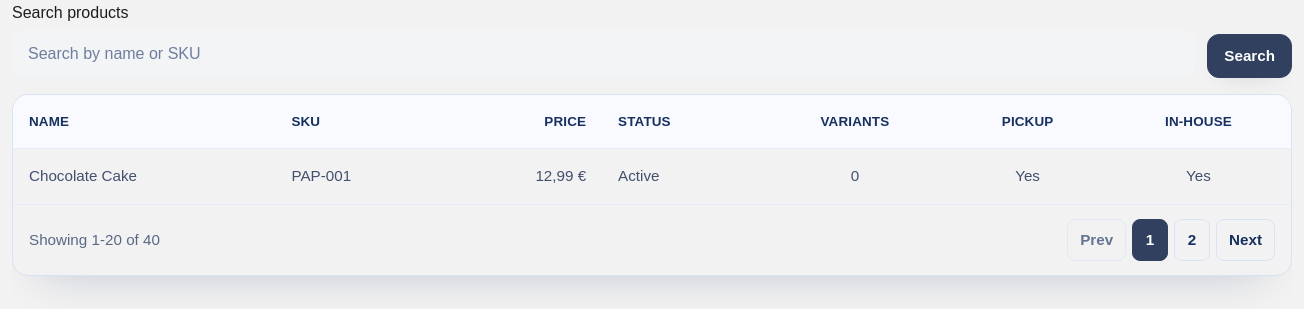
Scenario: ProductList › fetches the next product page with offset and limit params
Expected: the text "Chocolate Cake" is shown, [13,150,275,204]
Click the button with aria-label "Next page": click(1246, 240) [1216,218,1275,261]
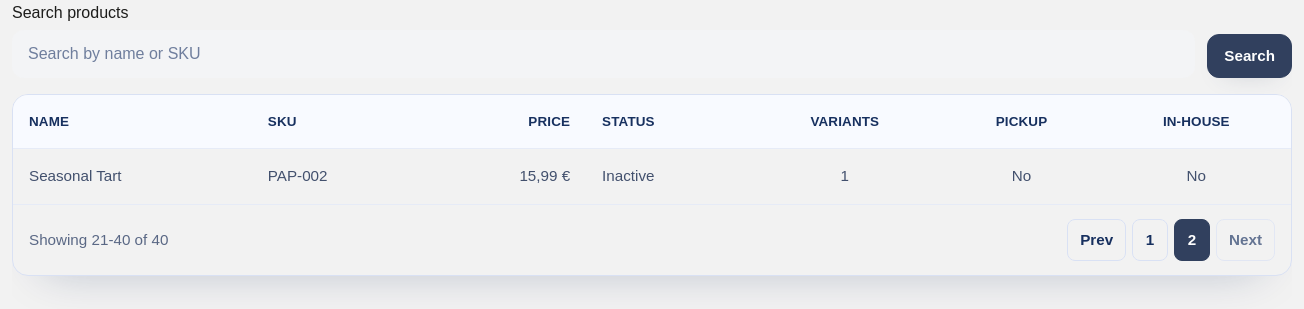
Expected: the text "Seasonal Tart" is shown, [13,150,252,204]
Expected: the text "Chocolate Cake" is gone
